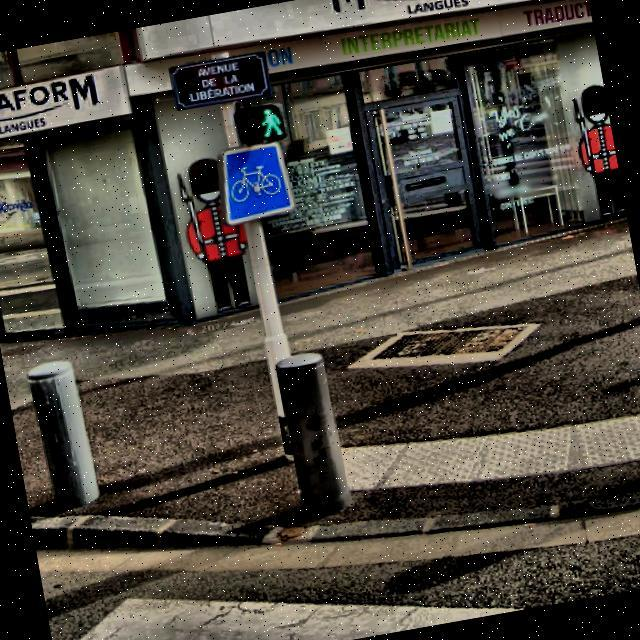green_light: (252, 100, 284, 139)
